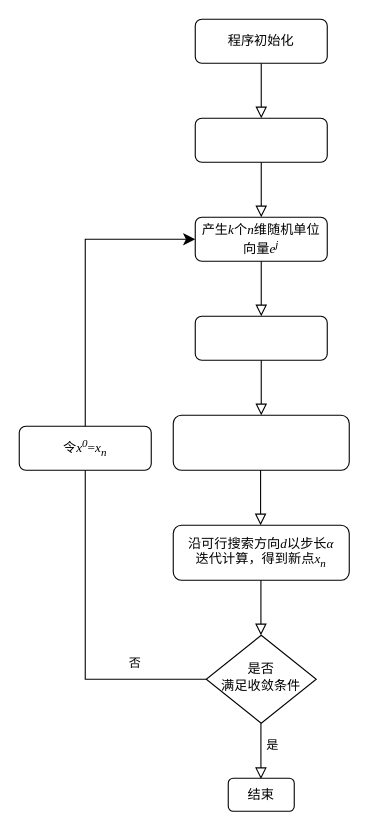
This 369x831 diagram has some shape labels left out. Here are the shapes that lost their labels. From the top down, the box of each, then its label:
(194, 117, 327, 162): 选择一个 可行的初始点 x 0
(194, 315, 327, 360): 取试验步长 α 0 ，计算 k 个随机点 x j
(172, 414, 349, 470): 找出可行随机点 x L ， 产生可行搜索方向 d= x L - x 0
